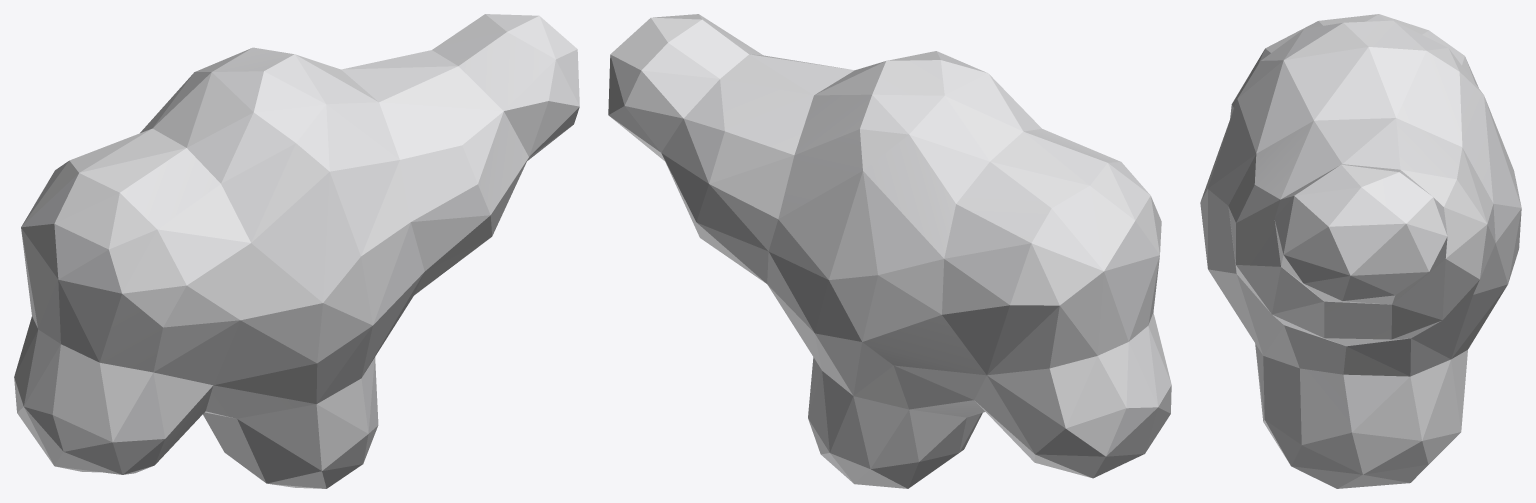
Rendered from small_cloud_15.fbx.
3 views of the same model, side by side, from view 1: azimuth 30°, elevation 25°; view 2: azimuth 150°, elevation 25°; view 3: azimuth 270°, elevation 25° (orthographic). The views are drawn at different scales.
Visible parts, largest first — view 1: cloud_15; view 2: cloud_15; view 3: cloud_15.
Part boxes in pixels (bbox=[...]): cloud_15: bbox=[14, 14, 579, 488]; cloud_15: bbox=[608, 14, 1171, 488]; cloud_15: bbox=[1200, 14, 1521, 488].
Size of the model in its own units: 355 by 265 by 174.
